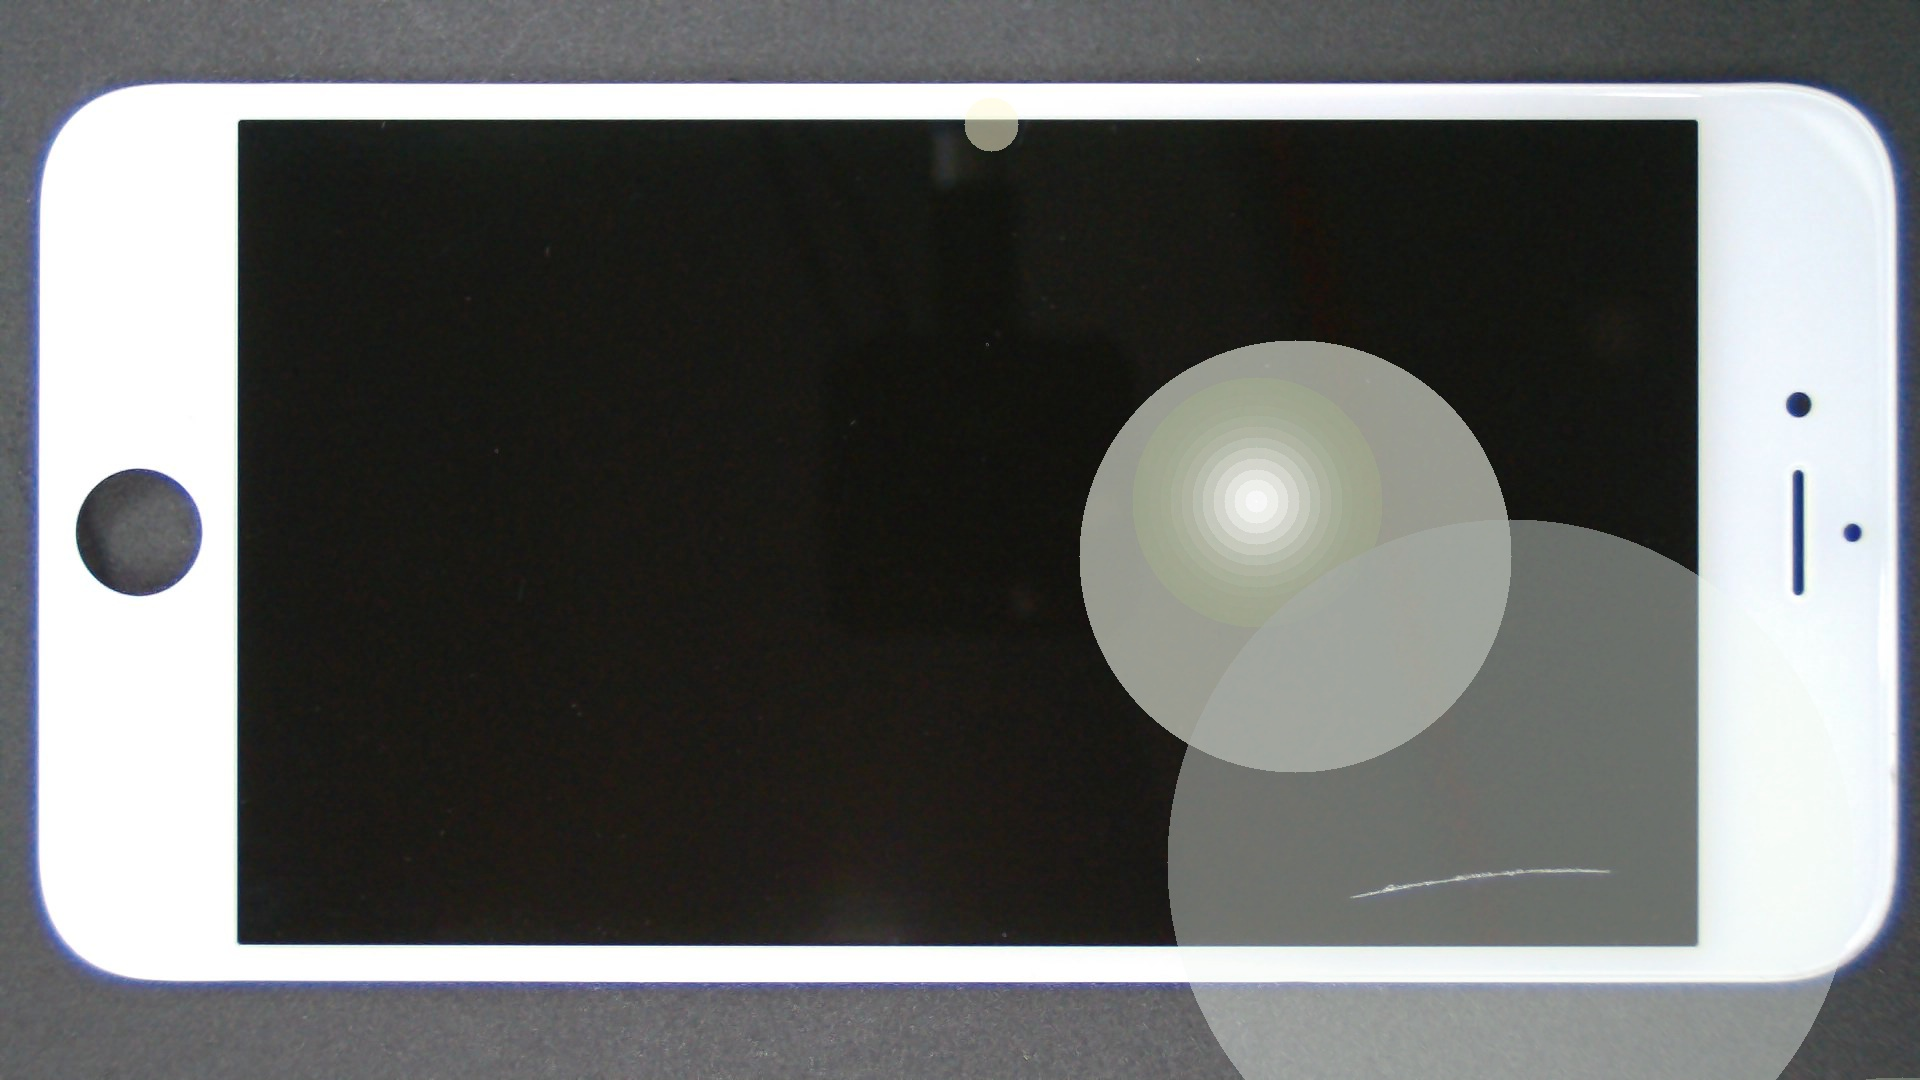oil: (760, 434, 1920, 1080)
